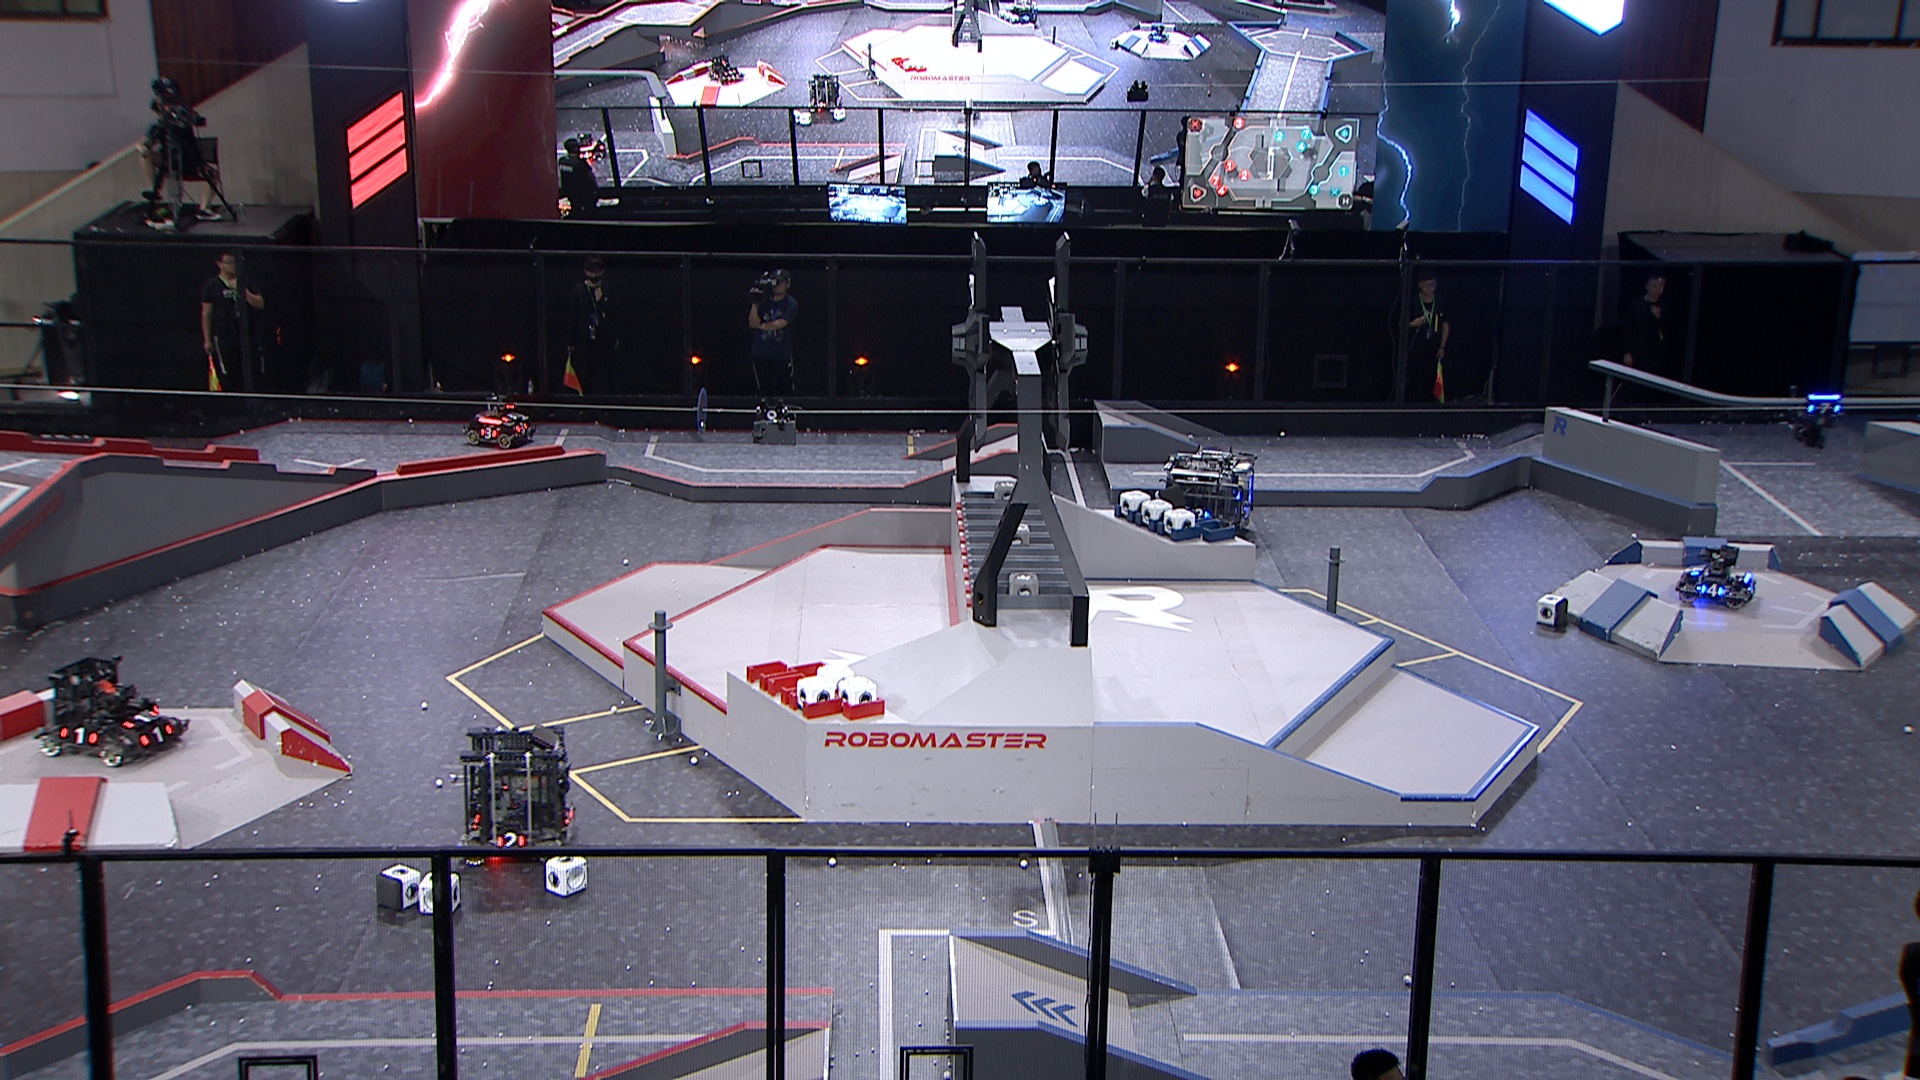armor: (140, 719, 173, 746), (123, 707, 160, 727), (62, 725, 96, 745), (1808, 401, 1841, 415), (495, 835, 526, 849), (1698, 583, 1726, 597), (477, 425, 498, 440), (1191, 506, 1211, 520), (1688, 564, 1704, 580), (501, 410, 518, 423), (1747, 579, 1759, 597), (516, 419, 529, 433)
car: (454, 719, 583, 873), (30, 655, 195, 771), (1156, 446, 1263, 549), (1676, 542, 1756, 608), (465, 390, 535, 448)
ignore: (568, 128, 613, 167), (806, 74, 847, 113), (709, 54, 745, 84), (1139, 18, 1171, 44)
watcher: (1787, 381, 1845, 450)
